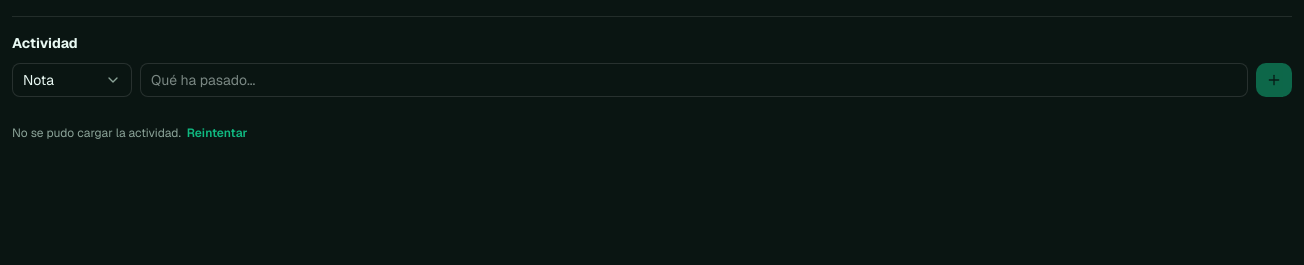
it: Timeline de actividad › "Reintentar" vuelve a pedir la actividad y la pinta
Click the button "Reintentar" at [217, 133], box [187,117,248,149]
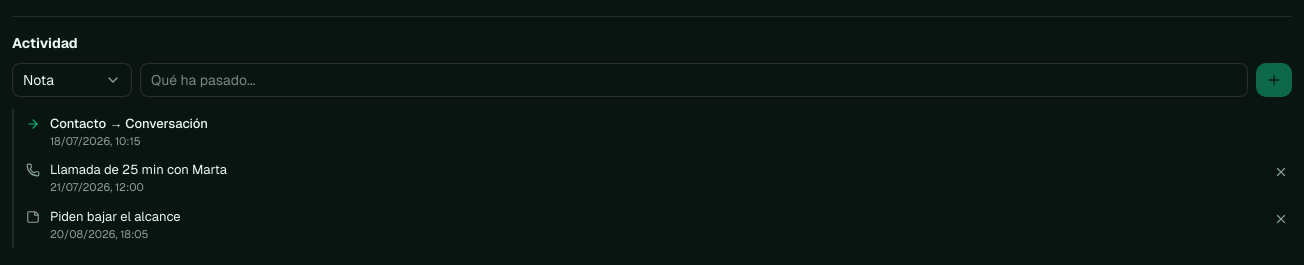
Result: the text "Contacto → Conversación" is shown at [50,115,208,132]
Result: the text "No se pudo cargar" is gone
